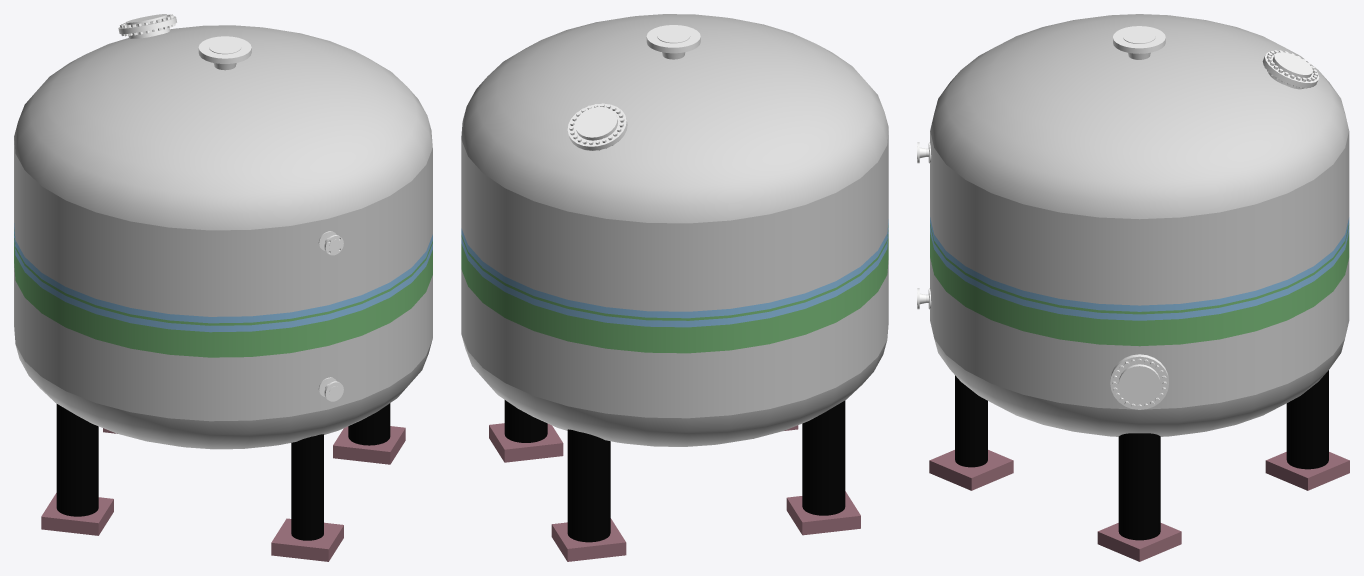
File: CM01-FC_Pequeño.glb
3 renders of one model, left to right at view 1: azimuth 30°, elevation 25°; view 2: azimuth 150°, elevation 25°; view 3: azimuth 270°, elevation 25°, orthographic. The views are drawn at different scales.
Visible parts, largest first — view 1: 3DGeom-2 (×2), 3DGeom-12, 3DGeom-13, 3DGeom-14, 3DGeom-21, 3DGeom-8, 3DGeom-20, 3DGeom-5, 3DGeom-11, 3DGeom-17, 3DGeom-15, 3DGeom-6; view 2: 3DGeom-2 (×2), 3DGeom-12, 3DGeom-13, 3DGeom-14, 3DGeom-4, 3DGeom-21, 3DGeom-6, 3DGeom-9, 3DGeom-5, 3DGeom-11, 3DGeom-17, 3DGeom-15; view 3: 3DGeom-2 (×2), 3DGeom-12, 3DGeom-13, 3DGeom-14, 3DGeom-15, 3DGeom-4, 3DGeom-7, 3DGeom-8, 3DGeom-20, 3DGeom-11, 3DGeom-9, 3DGeom-6 (+1 smaller).
Part boxes in pixels (x1,y1,x2,y2): 3DGeom-2 (×2): [14, 25, 432, 449]; 3DGeom-12: [14, 136, 432, 421]; 3DGeom-13: [14, 229, 432, 357]; 3DGeom-14: [14, 223, 432, 332]; 3DGeom-21: [56, 404, 98, 516]; 3DGeom-8: [291, 434, 323, 540]; 3DGeom-20: [271, 518, 343, 561]; 3DGeom-5: [41, 493, 113, 535]; 3DGeom-11: [333, 426, 405, 464]; 3DGeom-17: [198, 36, 251, 70]; 3DGeom-15: [348, 403, 390, 445]; 3DGeom-6: [118, 14, 176, 38]; 3DGeom-2 (×2): [461, 14, 888, 446]; 3DGeom-12: [461, 131, 888, 418]; 3DGeom-13: [461, 225, 888, 353]; 3DGeom-14: [461, 219, 888, 327]; 3DGeom-4: [567, 429, 610, 542]; 3DGeom-21: [802, 400, 845, 515]; 3DGeom-6: [567, 103, 627, 150]; 3DGeom-9: [551, 518, 626, 561]; 3DGeom-5: [786, 491, 860, 535]; 3DGeom-11: [489, 423, 563, 462]; 3DGeom-17: [646, 25, 700, 59]; 3DGeom-15: [504, 400, 547, 442]; 3DGeom-2 (×2): [930, 14, 1348, 436]; 3DGeom-12: [930, 131, 1349, 409]; 3DGeom-13: [930, 223, 1349, 346]; 3DGeom-14: [930, 217, 1349, 320]; 3DGeom-15: [1118, 433, 1160, 540]; 3DGeom-4: [1286, 370, 1328, 469]; 3DGeom-7: [1110, 354, 1168, 409]; 3DGeom-8: [955, 375, 987, 467]; 3DGeom-20: [929, 450, 1013, 490]; 3DGeom-11: [1097, 523, 1181, 561]; 3DGeom-9: [1265, 452, 1349, 490]; 3DGeom-6: [1262, 50, 1319, 89].
Size of the model in its own units: 3.12 by 3.44 by 3.09.
